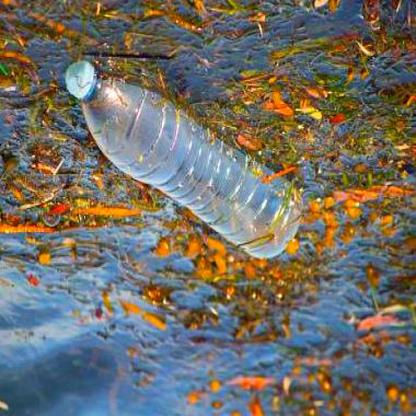plastic bottle: (64, 62, 301, 259)
